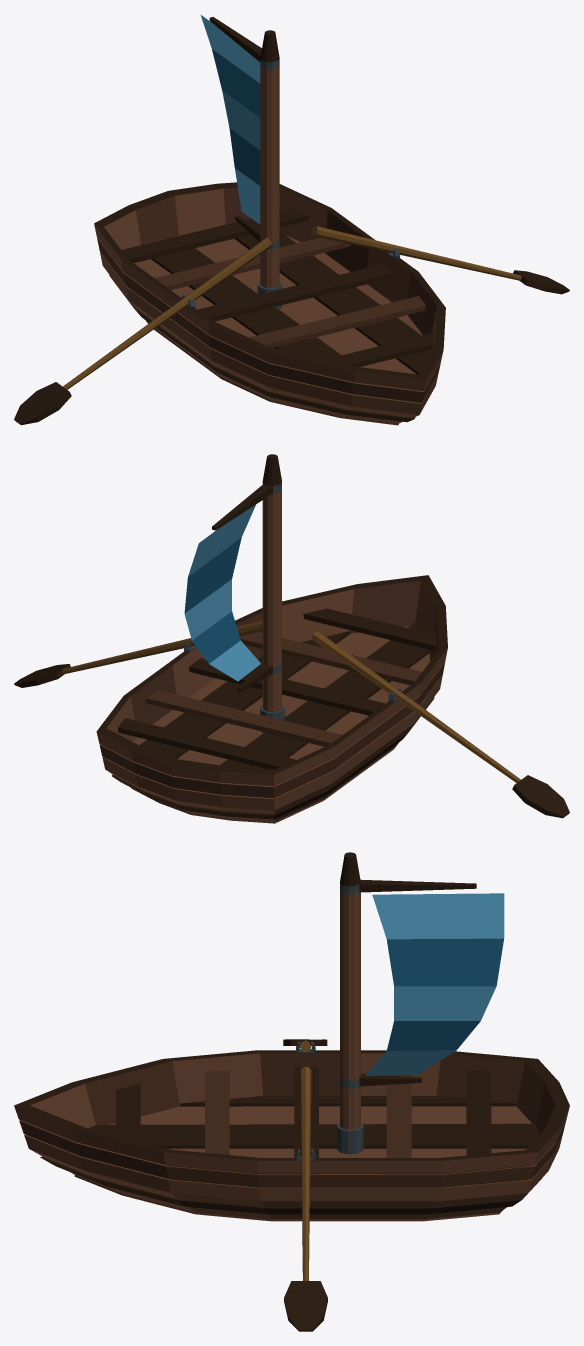
Rendered from boat.glb.
The picture shows the model from 3 angles, top to bottom: view 1: azimuth 30°, elevation 25°; view 2: azimuth 150°, elevation 25°; view 3: azimuth 270°, elevation 25°; orthographic projection. The views are drawn at different scales.
Parts seen in each view (by area): view 1: Cube, Cube.001, Cylinder, Cylinder.001, Cylinder.002; view 2: Cube, Cube.001, Cylinder, Cylinder.001, Cylinder.002; view 3: Cube, Cube.001, Cylinder, Cylinder.002.
Boxes of the visible parts, x1=… form: Cube: x1=94, y1=182, x2=445, y2=425; Cube.001: x1=201, y1=15, x2=260, y2=224; Cylinder: x1=209, y1=17, x2=282, y2=309; Cylinder.001: x1=14, y1=237, x2=272, y2=425; Cylinder.002: x1=311, y1=226, x2=569, y2=294; Cube: x1=96, y1=575, x2=447, y2=823; Cube.001: x1=184, y1=504, x2=260, y2=681; Cylinder: x1=212, y1=454, x2=284, y2=732; Cylinder.001: x1=311, y1=631, x2=569, y2=818; Cylinder.002: x1=14, y1=620, x2=262, y2=687; Cube: x1=14, y1=1041, x2=569, y2=1221; Cube.001: x1=365, y1=893, x2=504, y2=1075; Cylinder: x1=337, y1=852, x2=476, y2=1154; Cylinder.002: x1=284, y1=1066, x2=327, y2=1331.
Bounding box in the file's own units: 12.55 × 6.73 × 10.22.
Materials: 2 (2 with a texture image).
